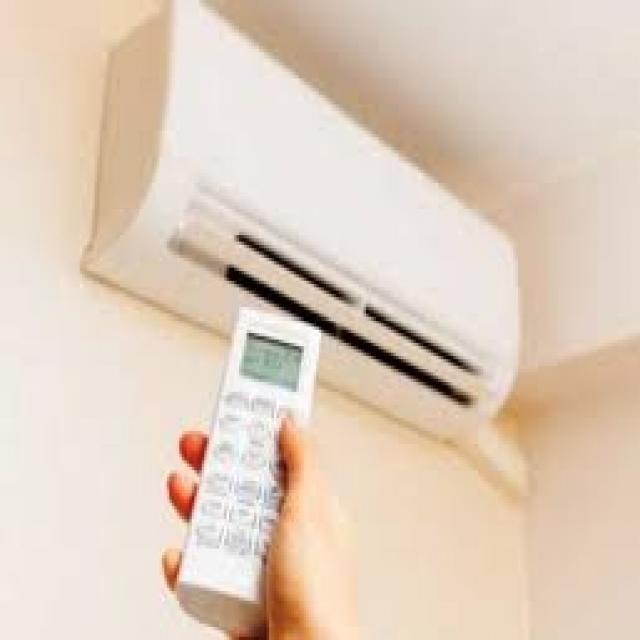AC: (80, 0, 522, 444)
